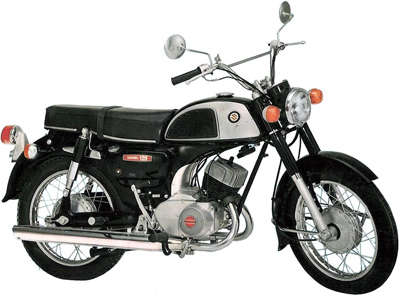motorcycle: (6, 73, 396, 293)
